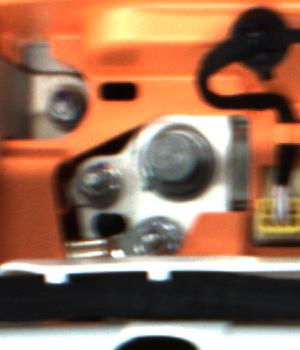nut_b: (132, 122, 221, 205)
screw_s: (78, 160, 120, 204), (133, 215, 178, 256), (41, 88, 86, 127)
